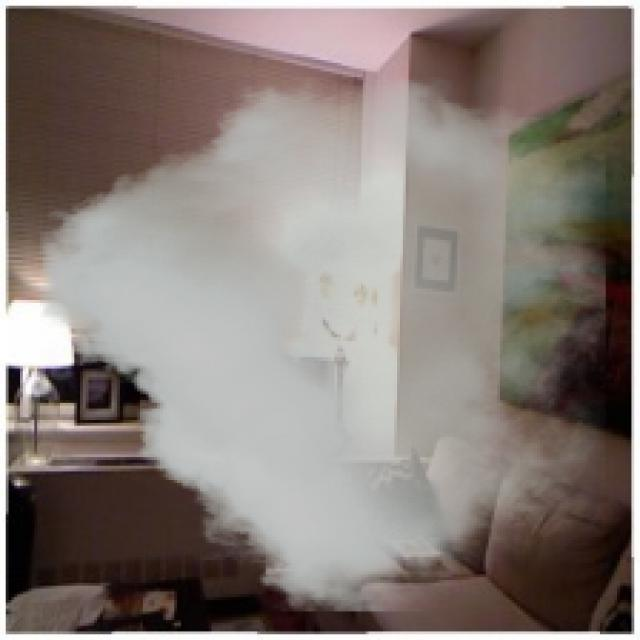Smoke: (40, 77, 606, 612)
